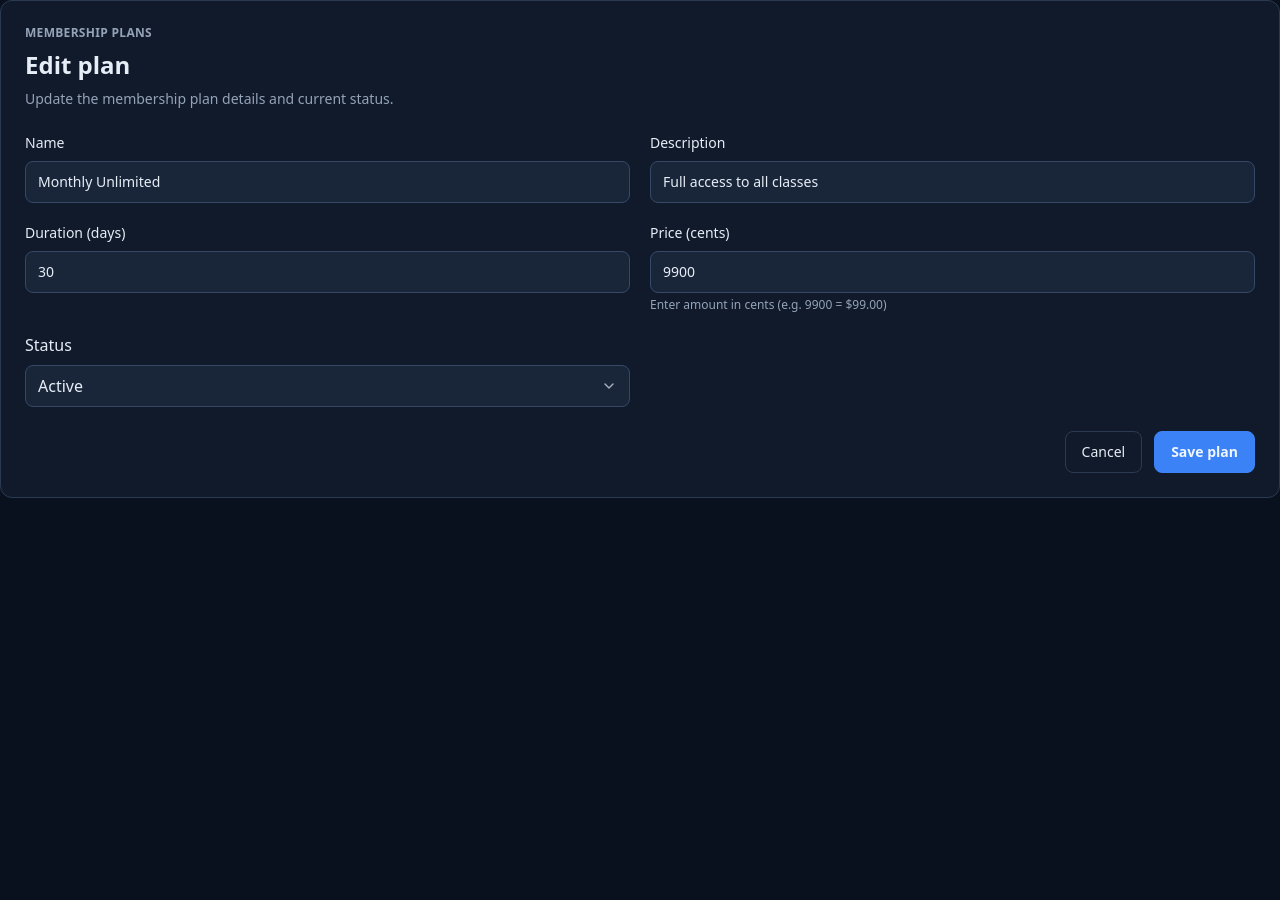
it: EditMembershipPlanForm › renders validation errors returned by the action
The image size is (1280, 900).
Click the button "Save plan": (1205,452) [1154,431,1255,473]
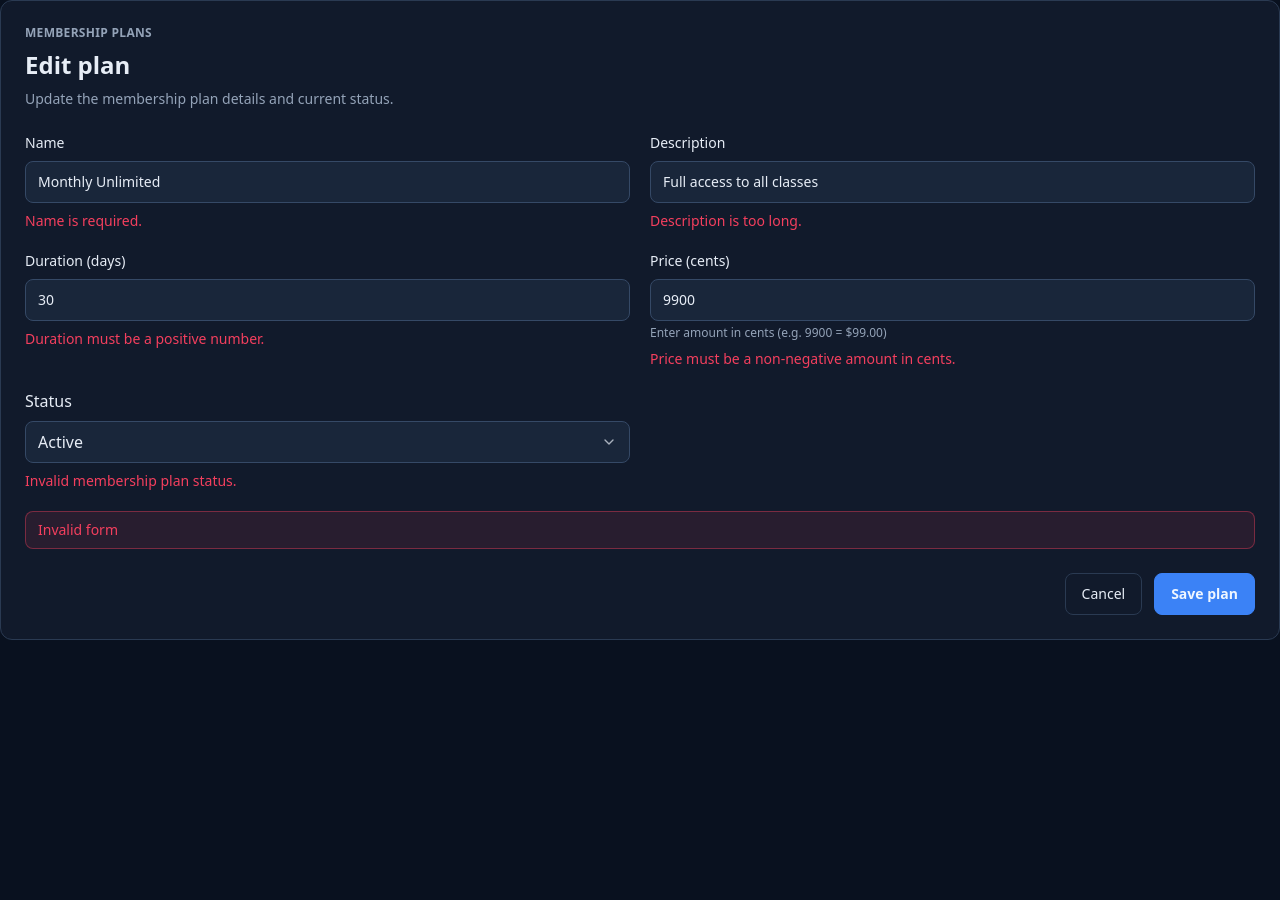
Check: the text "Name is required." is shown, box [25,211,142,230]
Check: the text "Description is too long." is shown, box [650,211,802,230]
Check: the text "Duration must be a positive number." is shown, box [25,329,264,348]
